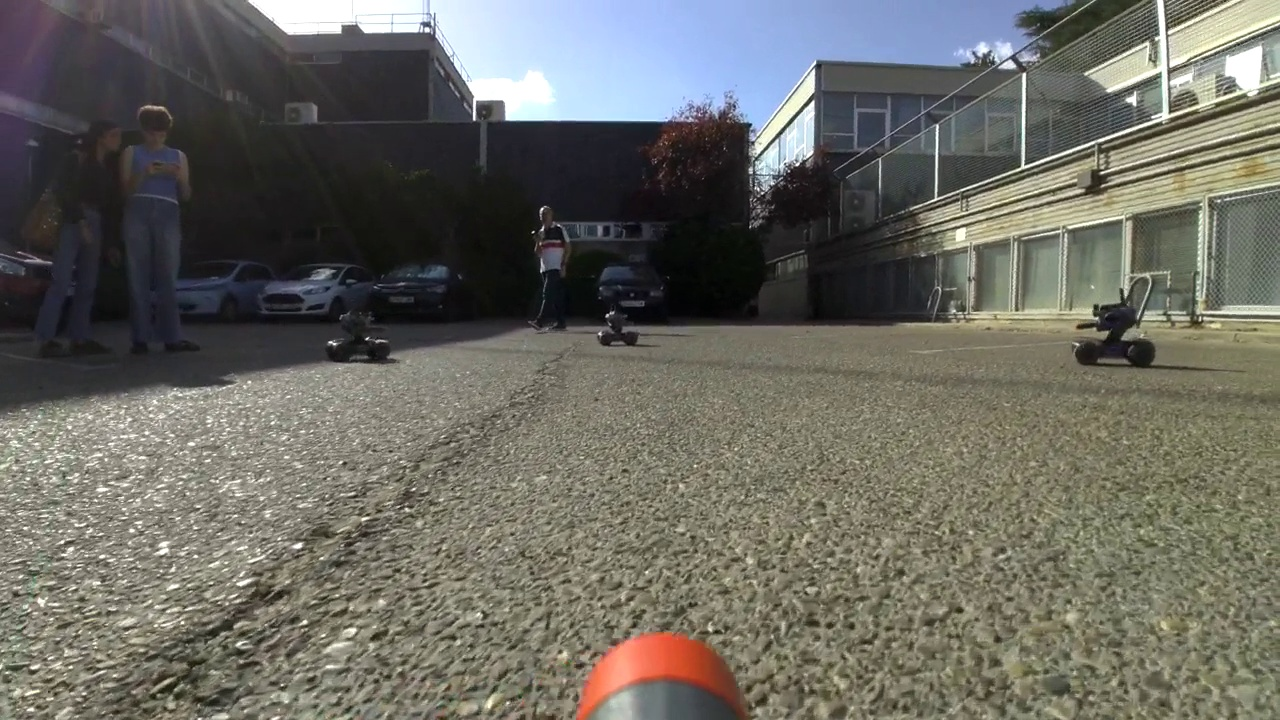robot: (1073, 294, 1156, 368), (323, 309, 392, 365), (596, 304, 641, 350)
